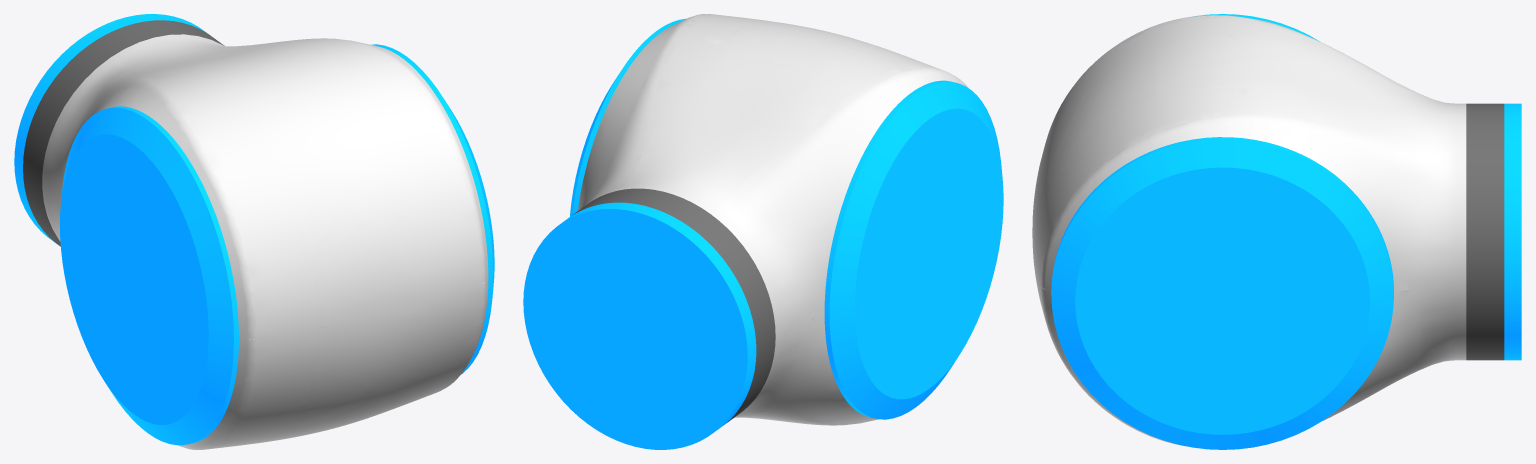
The picture shows the model from 3 angles, left to right: view 1: azimuth 30°, elevation 25°; view 2: azimuth 150°, elevation 25°; view 3: azimuth 270°, elevation 25°; orthographic projection.
Visible parts, largest first — view 1: Link2_body, Link2_led, Link2_ring; view 2: Link2_led, Link2_body, Link2_ring; view 3: Link2_led, Link2_body, Link2_ring.
Boxes of the visible parts, x1,y1,x2,y2 form: Link2_body: [42, 34, 488, 449]; Link2_led: [14, 14, 494, 445]; Link2_ring: [23, 20, 224, 246]; Link2_led: [523, 18, 1003, 449]; Link2_body: [578, 14, 968, 425]; Link2_ring: [572, 188, 775, 424]; Link2_led: [1051, 14, 1521, 449]; Link2_body: [1032, 15, 1466, 446]; Link2_ring: [1466, 103, 1504, 360].
Bounding box in the file's own units: 0.172 × 0.257 × 0.1997.
